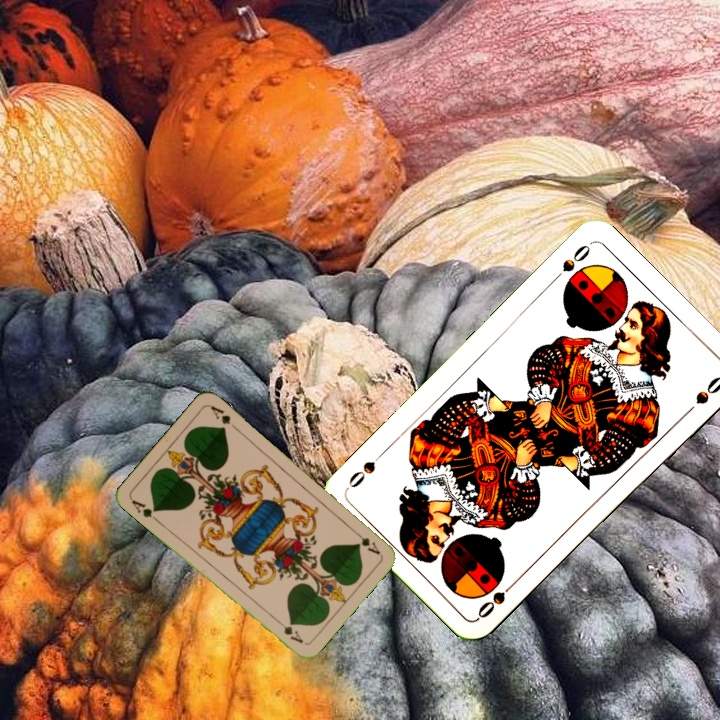GA: (349, 526, 383, 557), (127, 496, 162, 525)
SO: (473, 575, 521, 621), (548, 240, 593, 285)
